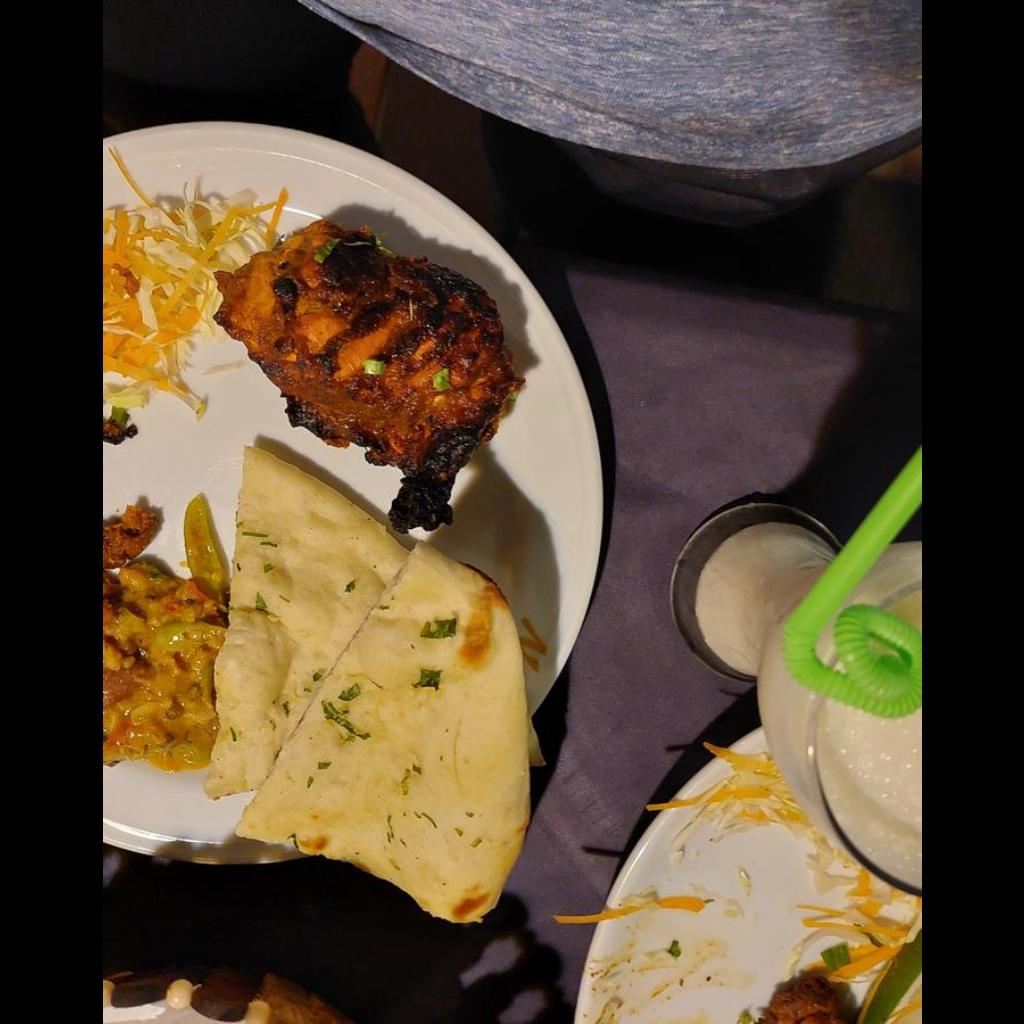chicken: (217, 224, 522, 527)
ruti: (210, 450, 535, 921)
sweets: (102, 141, 286, 412)
vegetable: (102, 497, 223, 767)
